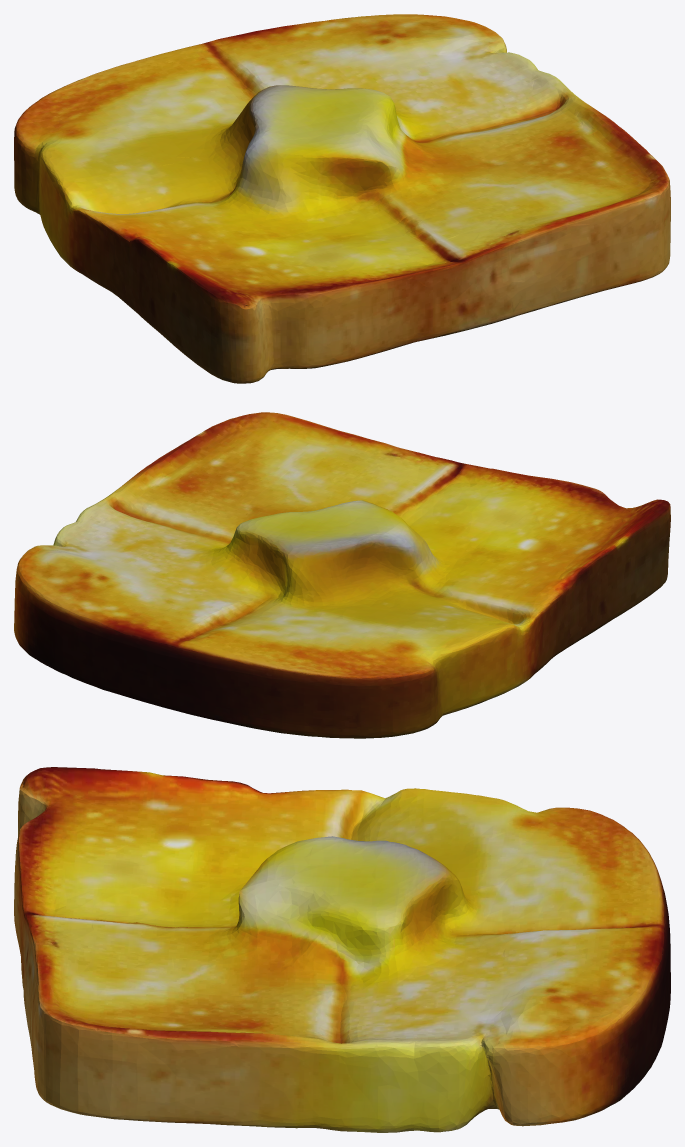
Rendered from afc06cff-ee8d-4e1e-90ff-84e532e97e3e.glb.
3 renders of one model, top to bottom at view 1: azimuth 30°, elevation 25°; view 2: azimuth 150°, elevation 25°; view 3: azimuth 270°, elevation 25°, orthographic. The views are drawn at different scales.
Visible parts, largest first — view 1: world; view 2: world; view 3: world.
Boxes of the visible parts, <box> form: world: <box>14,14,670,383</box>; world: <box>14,412,670,738</box>; world: <box>14,767,670,1132</box>.
Size of the model in its own units: 0.9671 by 0.2252 by 0.9978.
1 material, 1 textured.
